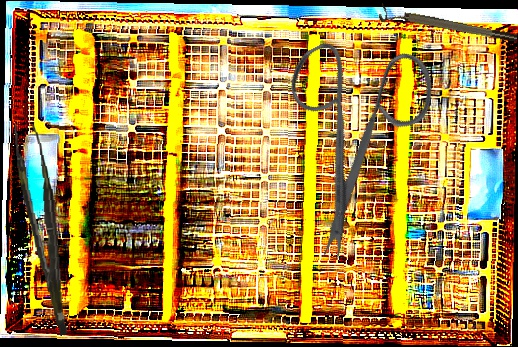Fixation Ring: (378, 3, 518, 50)
Iris Scissors: (232, 4, 489, 268)
Tissue Forceps: (13, 120, 68, 339)
